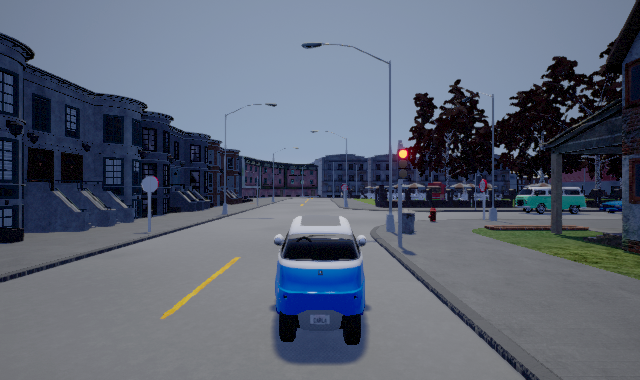traffic_light: (397, 143, 408, 185)
traffic_sign: (476, 174, 487, 192), (341, 184, 348, 191)
vehicle: (274, 215, 367, 345), (515, 184, 585, 214)
